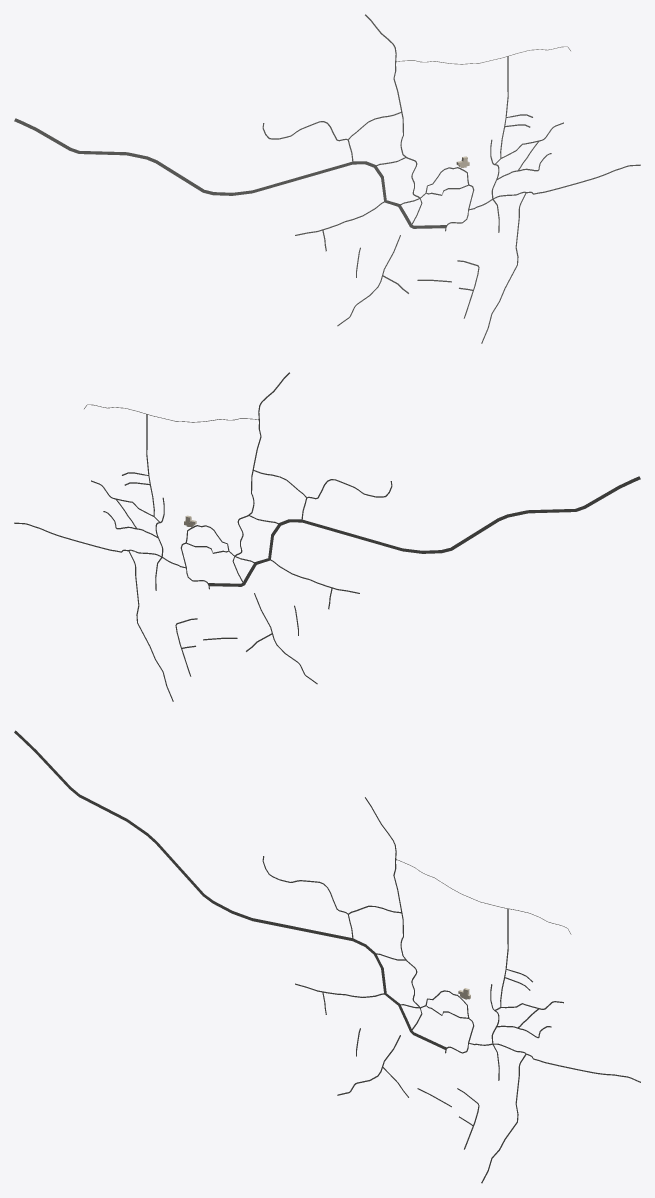
The model's file is historic-palestine-10_27_3515_3219.glb.
3 renders of one model, top to bottom at view 1: azimuth 30°, elevation 25°; view 2: azimuth 150°, elevation 25°; view 3: azimuth 330°, elevation 25°, orthographic.
Parts seen in each view (by area): view 1: Road 5522; view 2: Road 5522; view 3: Road 5522.
Part boxes in pixels (x1,y1,x2,y2): Road 5522: (14, 118, 446, 228); Road 5522: (208, 476, 640, 586); Road 5522: (14, 730, 446, 1049).
Bounding box in the file's own units: 1699 × 928 × 8.7.
